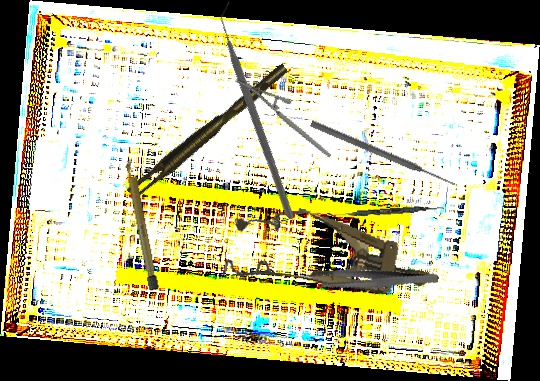Chopper: (145, 0, 375, 221)
Dressing Forceps: (309, 243, 438, 315)
Needle Holder: (234, 57, 332, 179)
Pusher: (309, 118, 457, 190)
Scalpel Handle: (123, 156, 160, 292)
Spatula Surgical: (326, 202, 445, 221)
Speculum: (222, 195, 447, 321)
Tissue Forceps: (122, 63, 295, 201)
